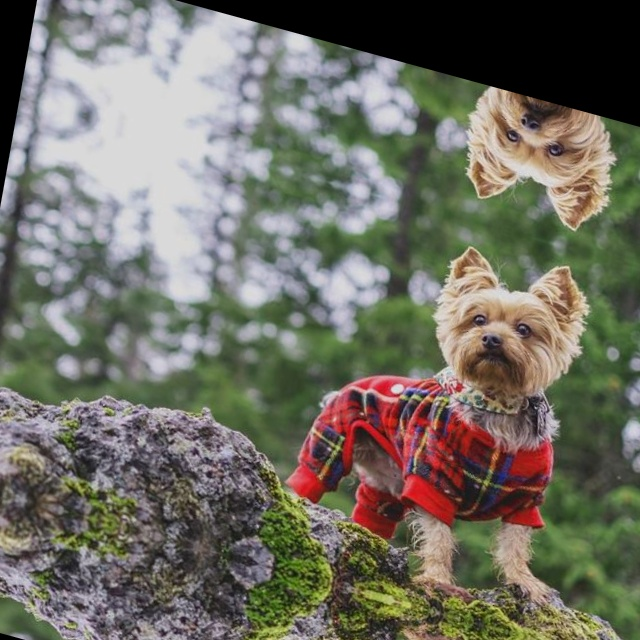dog: (414, 218, 608, 421), (444, 80, 632, 253)
